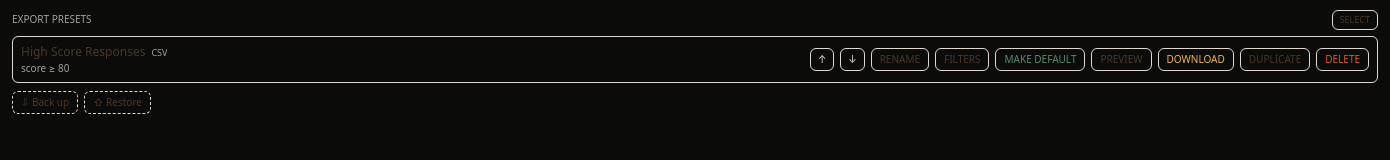
Test: ExportPresetsPanel › deletes a preset and removes its row
Click the button with aria-label "delete export preset high score responses": [1343, 59] box [1316,48,1369,70]
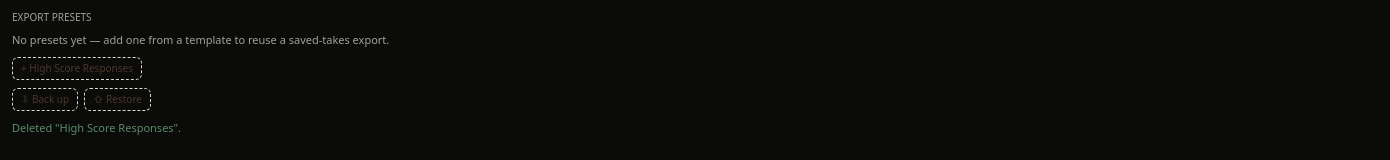
Expected: the message reads "Deleted \"High Score Responses\".", [12,120,181,135]
